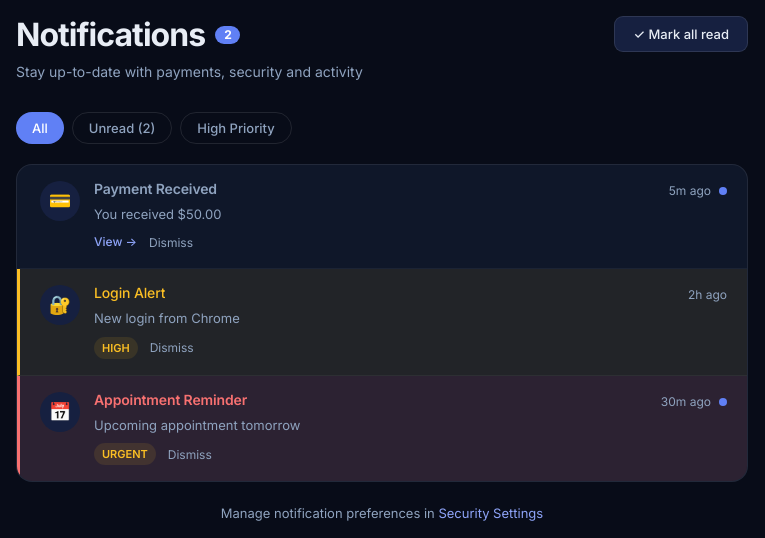
Notifications › filter interaction › filters to unread notifications
Check: the heading "Payment Received" is shown, box [94,181,217,198]
Step 1. Click the button "Unread (2)" → click(122, 128), box [72,112,172,144]
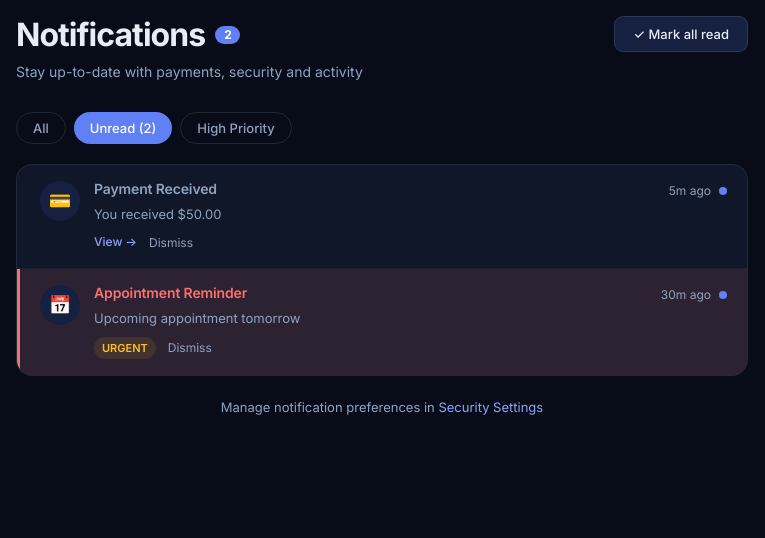
Check: the heading "Payment Received" is shown, box [94,181,217,198]
Check: the heading "Login Alert" is gone
